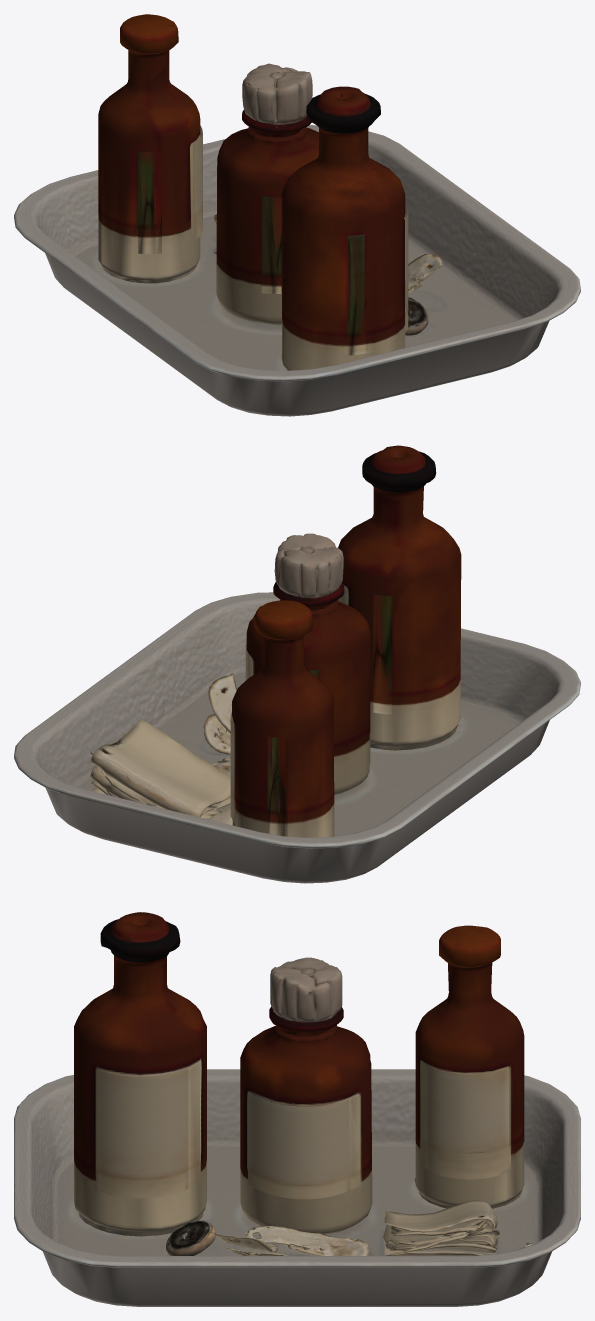
Rendered from prop-medicine-tray-v01.glb.
The picture shows the model from 3 angles, top to bottom: view 1: azimuth 30°, elevation 25°; view 2: azimuth 150°, elevation 25°; view 3: azimuth 270°, elevation 25°; orthographic projection. The views are drawn at different scales.
Visible parts, largest first — view 1: tripo_node_a09ca7cb-161b-4694-86eb-97a1b4c70cb1; view 2: tripo_node_a09ca7cb-161b-4694-86eb-97a1b4c70cb1; view 3: tripo_node_a09ca7cb-161b-4694-86eb-97a1b4c70cb1.
Part boxes in pixels (box(x1,y1,x2,y2)): tripo_node_a09ca7cb-161b-4694-86eb-97a1b4c70cb1: box(14, 14, 580, 416); tripo_node_a09ca7cb-161b-4694-86eb-97a1b4c70cb1: box(14, 445, 580, 883); tripo_node_a09ca7cb-161b-4694-86eb-97a1b4c70cb1: box(14, 912, 580, 1306).
Size of the model in its own units: 0.2713 by 0.1945 by 0.3324.
Materials: 1 (1 with a texture image).
